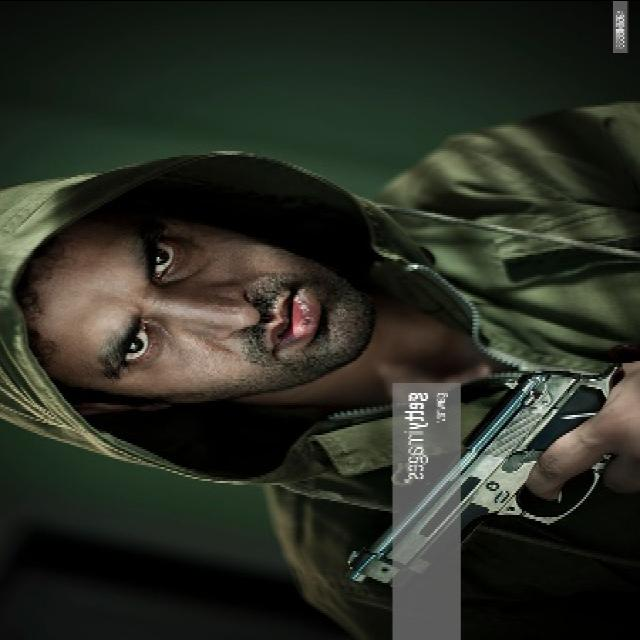handgun: (348, 365, 624, 587)
